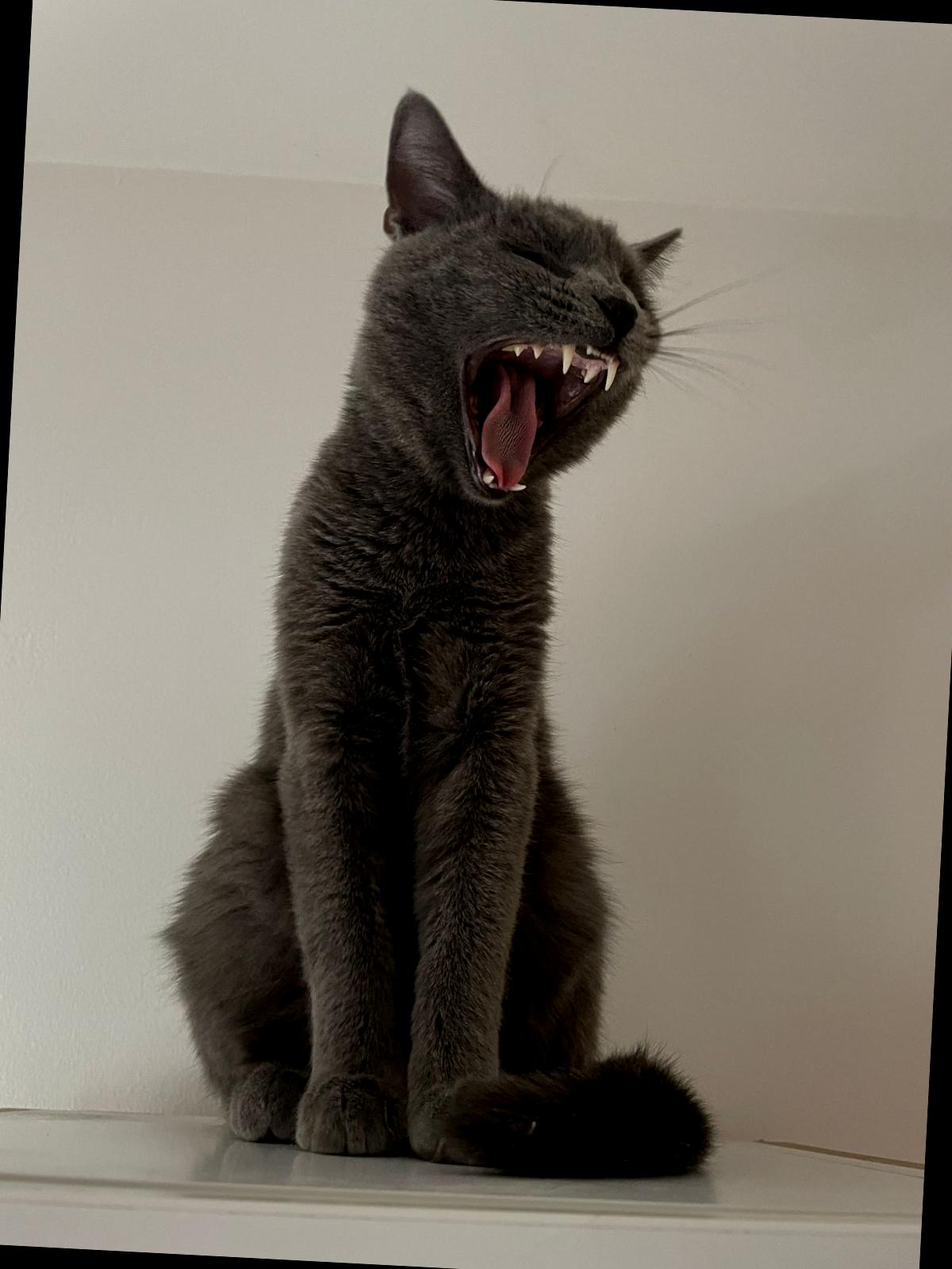macka: (155, 74, 763, 1187)
